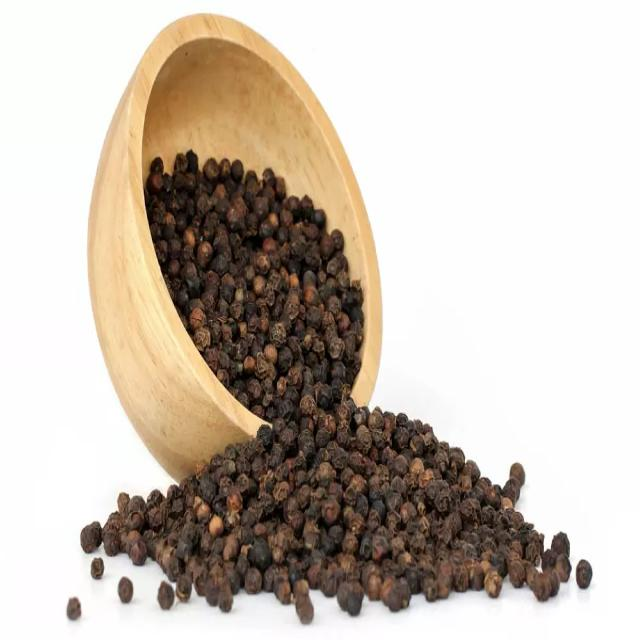Black pepper: (47, 352, 597, 628), (143, 146, 382, 442)
